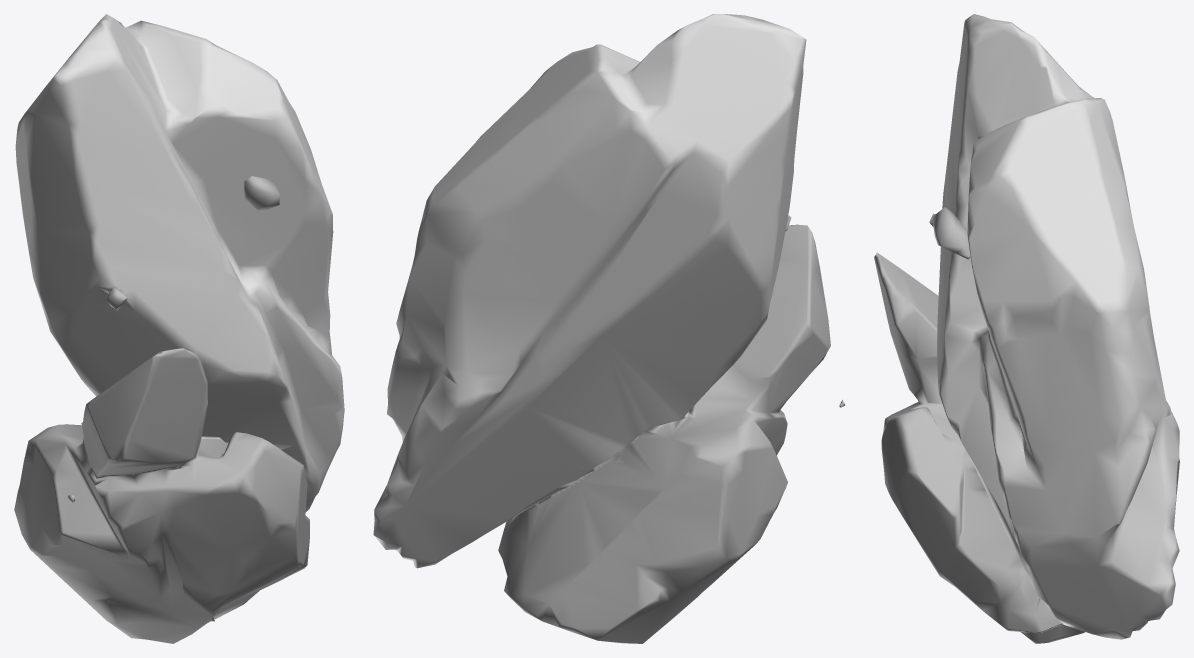
Rendered from ShardsFlat_LOD1.fbx.
3 views of the same model, side by side, from view 1: azimuth 30°, elevation 25°; view 2: azimuth 150°, elevation 25°; view 3: azimuth 270°, elevation 25° (orthographic). The views are drawn at different scales.
Parts seen in each view (by area): view 1: Layer_4; view 2: Layer_4; view 3: Layer_4.
Part boxes in pixels (box(x1,y1,x2,y2)): Layer_4: box(14, 14, 344, 643); Layer_4: box(373, 14, 844, 643); Layer_4: box(874, 14, 1179, 643).
Size of the model in its own units: 0.0634 by 0.0532 by 0.109.
Materials: 1 (1 with a texture image).
